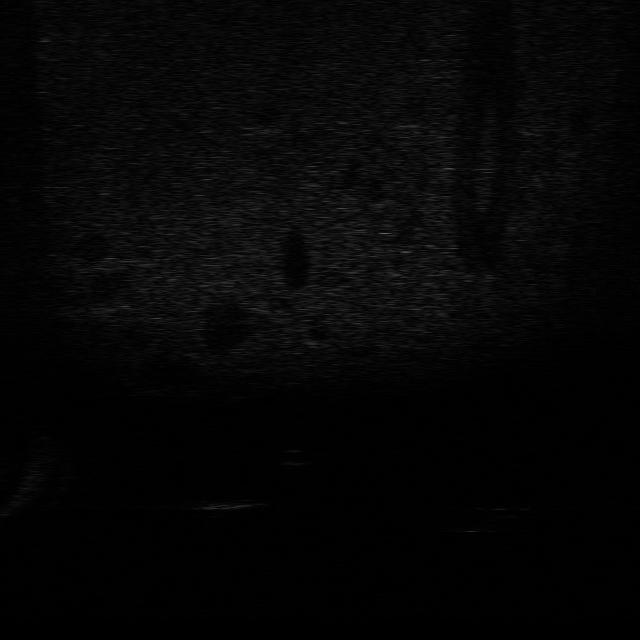ball: (275, 442, 314, 471)
square cage: (195, 492, 259, 522)
tyre: (450, 506, 512, 536)
